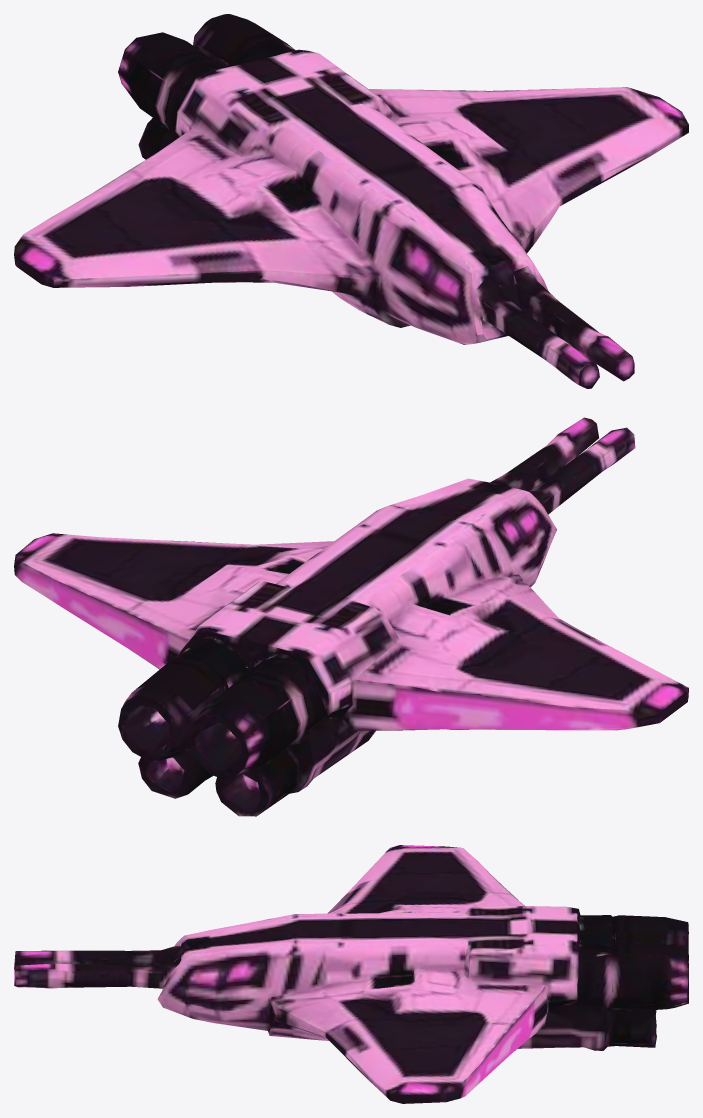
File: enemy-shooter-s8.glb
3 renders of one model, top to bottom at view 1: azimuth 30°, elevation 25°; view 2: azimuth 150°, elevation 25°; view 3: azimuth 270°, elevation 25°, orthographic. The views are drawn at different scales.
Parts seen in each view (by area): view 1: 85775bae-5782-4804-8cdf-365772ca311a_texturing.obj; view 2: 85775bae-5782-4804-8cdf-365772ca311a_texturing.obj; view 3: 85775bae-5782-4804-8cdf-365772ca311a_texturing.obj.
Boxes of the visible parts, box(x1,y1,x2,y2) form: 85775bae-5782-4804-8cdf-365772ca311a_texturing.obj: box(14, 14, 688, 388); 85775bae-5782-4804-8cdf-365772ca311a_texturing.obj: box(14, 417, 688, 816); 85775bae-5782-4804-8cdf-365772ca311a_texturing.obj: box(14, 845, 688, 1103).
Bounding box in the file's own units: 1.75 × 0.3463 × 1.99.
Materials: 1 (1 with a texture image).
